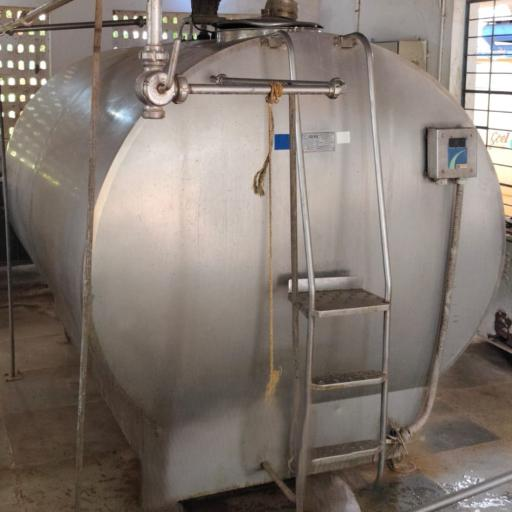silo: (2, 14, 507, 500)
